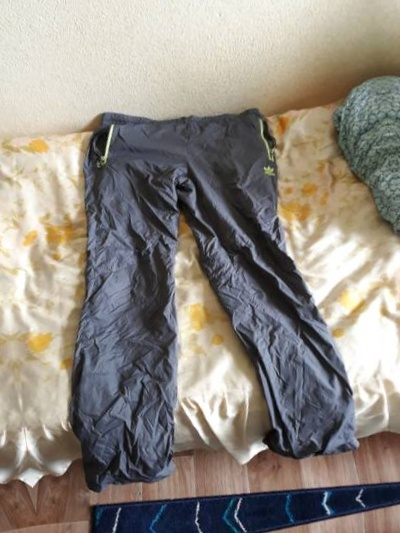Pants: (44, 57, 375, 498)
